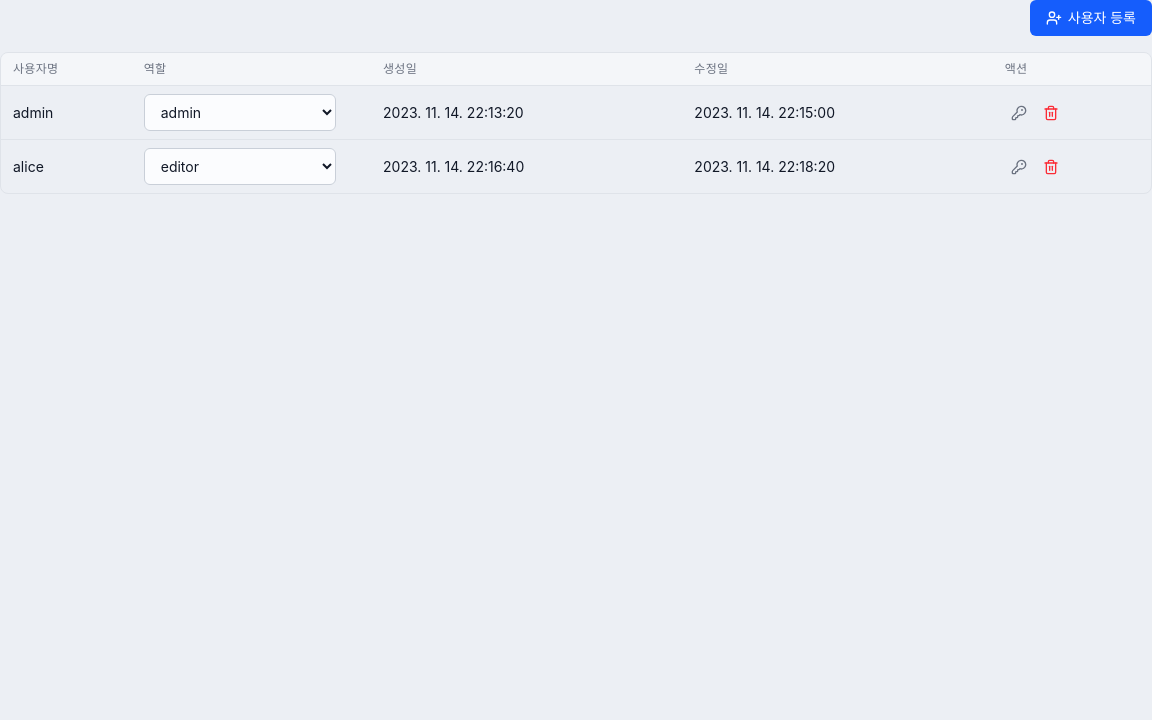
UsersPanel 역할 변경·비밀번호 재설정 (AC-03) › 비밀번호 재설정이 400 이면 검증 규칙을 안내한다 (서버 거부)
This screenshot has width=1152, height=720.
Expected: the row with test id "admin-user-row-alice" is shown, 1,140 -> 1151,193
Click the button named "비밀번호 재설정" at {"x": 1019, "y": 166}, box 1005,152 -> 1033,180
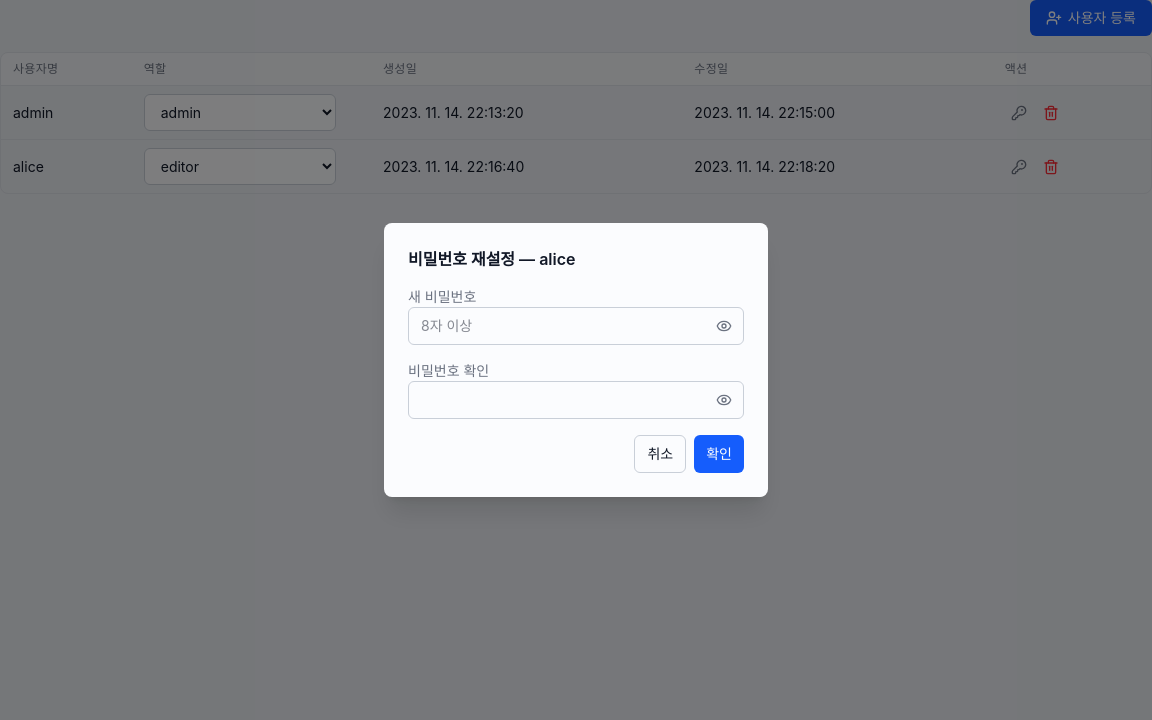
Type "long-enough-password" into the password field labelled "새 비밀번호" at {"x": 576, "y": 326}, box 408,307 -> 744,345
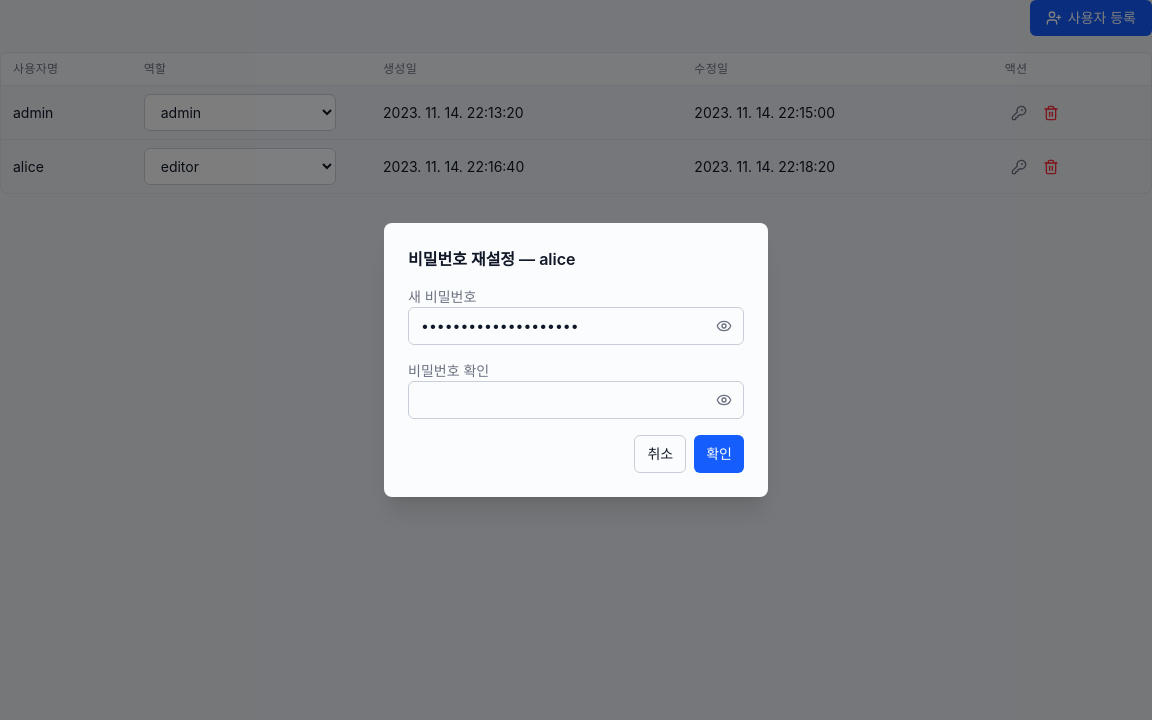
Type "long-enough-password" into the password field labelled "비밀번호 확인" at {"x": 576, "y": 400}, box 408,381 -> 744,419
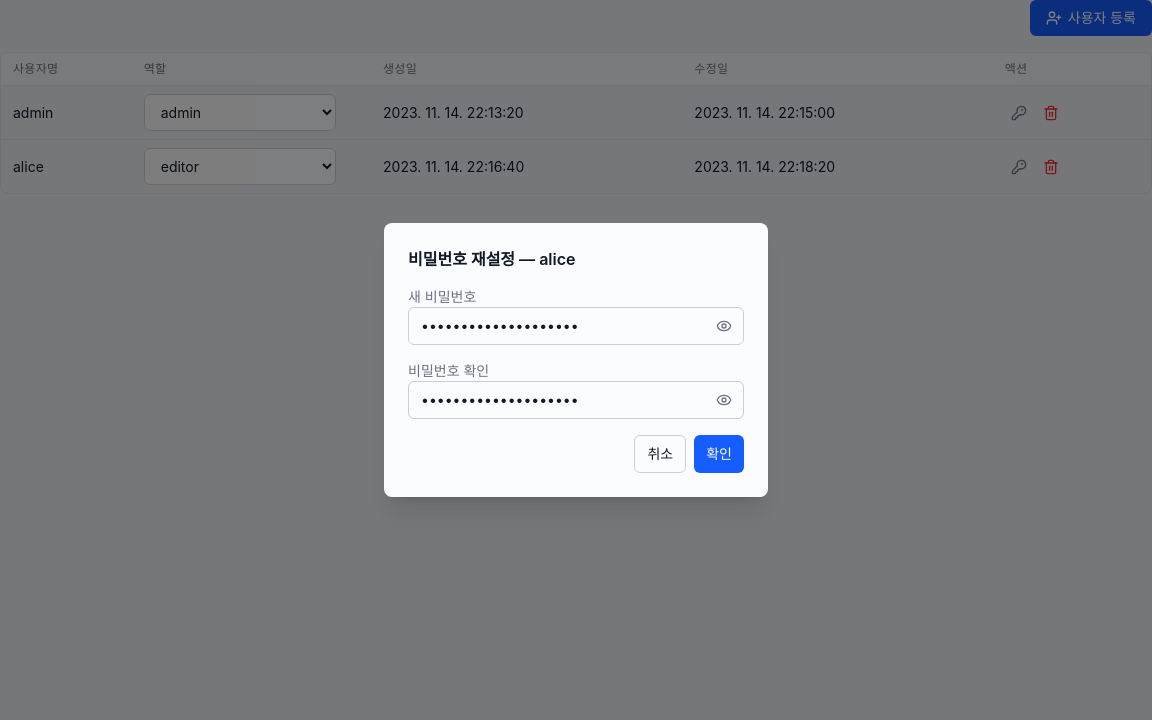
Click the button "확인" at {"x": 719, "y": 454}, box 694,435 -> 744,473
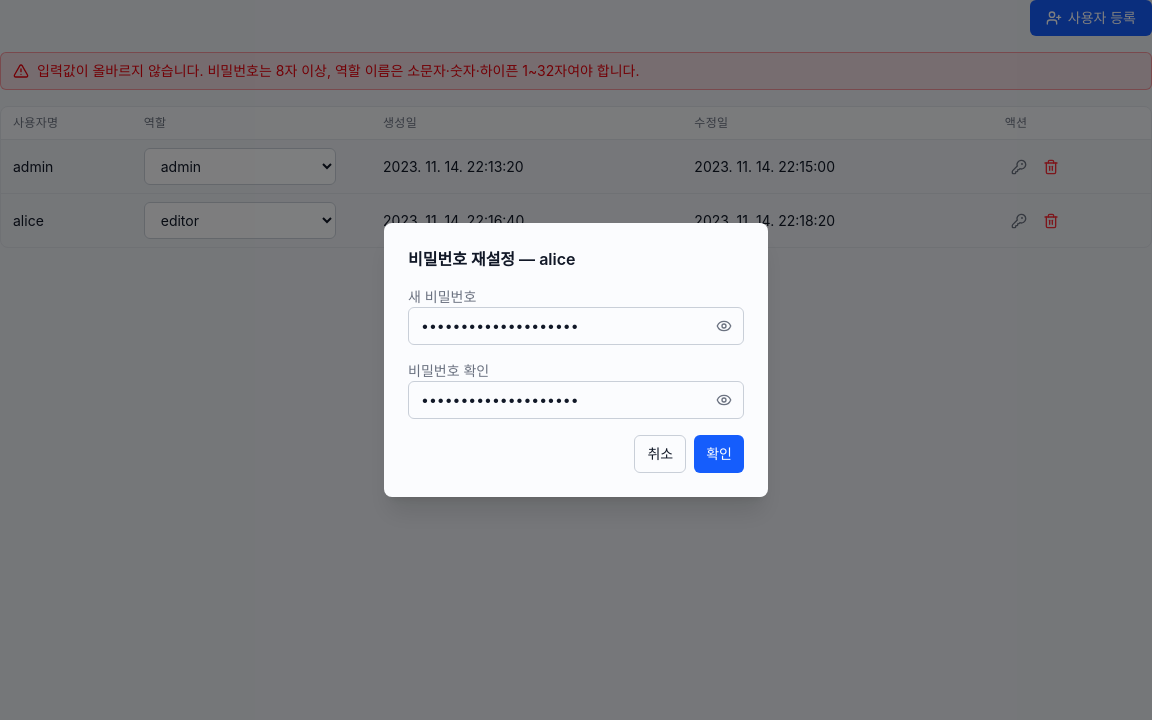
Expected: the message with test id "admin-action-error" shows "입력값이 올바르지 않습니다.", 37,62 -> 640,79
